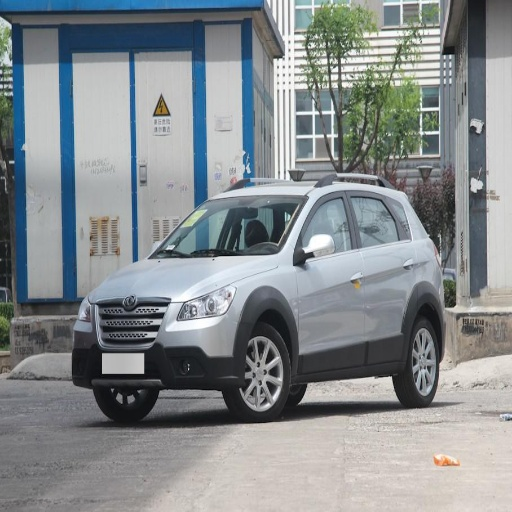front_bumper: (73, 289, 247, 388)
front_glass: (150, 198, 305, 258)
front_left_door: (295, 190, 366, 368)
